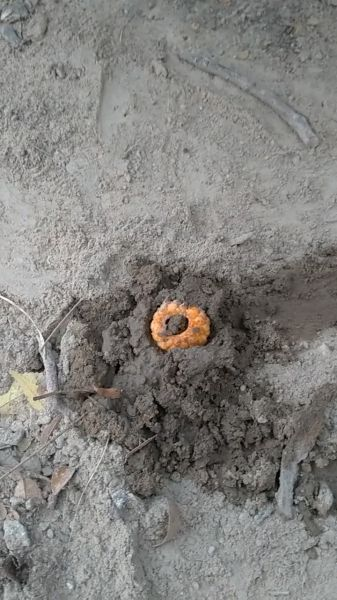eggs: (147, 296, 212, 353)
